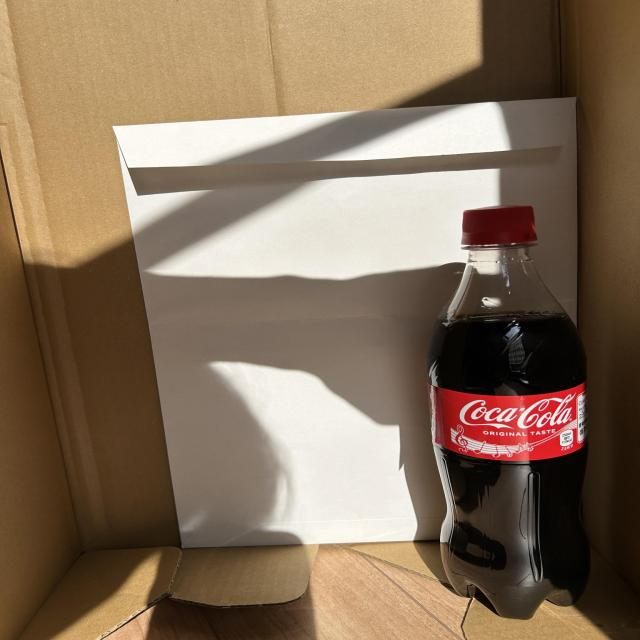high: (428, 206, 590, 619)
